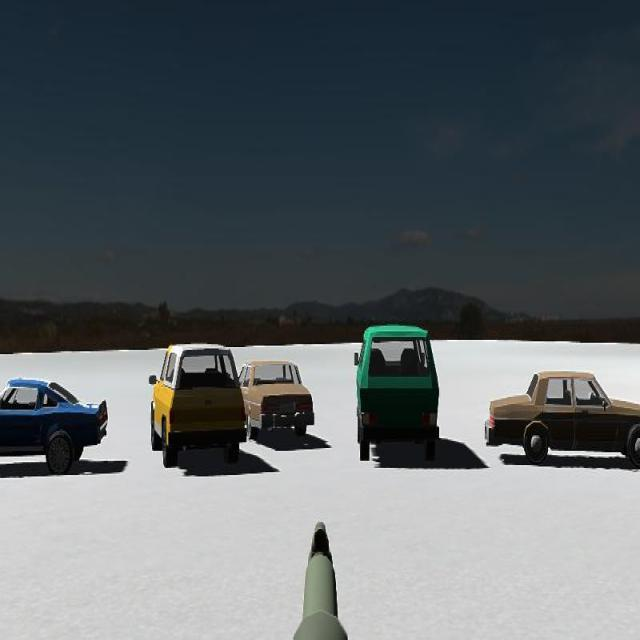car: (484, 368, 640, 471), (148, 339, 246, 468), (354, 322, 441, 464), (0, 377, 108, 479), (238, 357, 315, 446)
